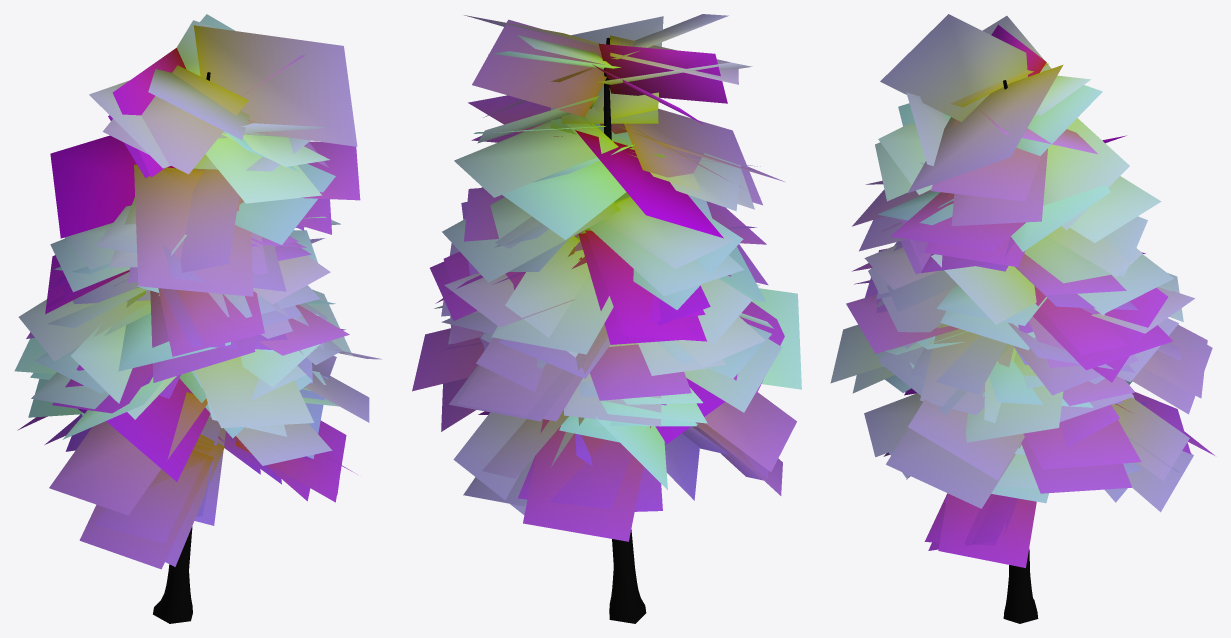
The model's file is tree_cedar_c_lod1.glb.
3 views of the same model, side by side, from view 1: azimuth 30°, elevation 25°; view 2: azimuth 150°, elevation 25°; view 3: azimuth 270°, elevation 25° (orthographic). The views are drawn at different scales.
Visible parts, largest first — view 1: tree_cedar_c_lod1; view 2: tree_cedar_c_lod1; view 3: tree_cedar_c_lod1.
Boxes of the visible parts, x1,y1,x2,y2 form: tree_cedar_c_lod1: [14, 14, 381, 623]; tree_cedar_c_lod1: [412, 14, 801, 623]; tree_cedar_c_lod1: [830, 14, 1214, 623].
Size of the model in its own units: 15.41 by 25.76 by 15.79.
